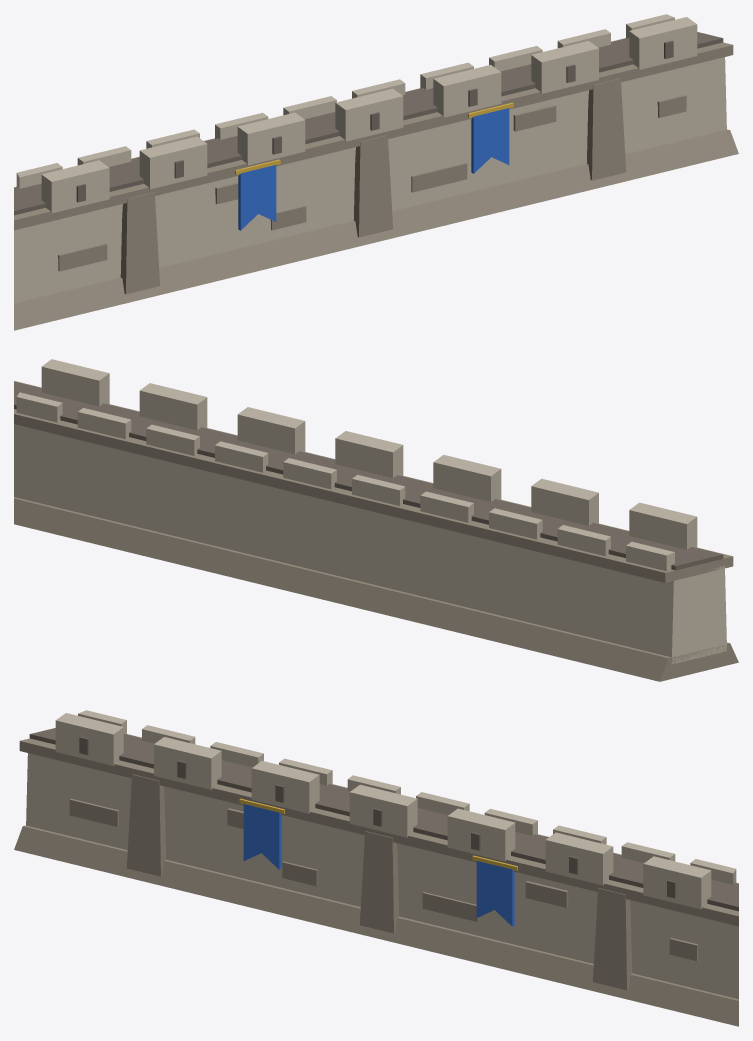
Rendered from wall_seg_1.glb.
3 views of the same model, one above another, from view 1: azimuth 30°, elevation 25°; view 2: azimuth 150°, elevation 25°; view 3: azimuth 330°, elevation 25° (orthographic).
Visible parts, largest first — view 1: wall_seg_1; view 2: wall_seg_1; view 3: wall_seg_1.
Part boxes in pixels (bbox=[...]): wall_seg_1: bbox=[14, 14, 738, 330]; wall_seg_1: bbox=[14, 359, 738, 681]; wall_seg_1: bbox=[14, 710, 738, 1026].
Size of the model in its own units: 1.06 by 0.192 by 0.1.
